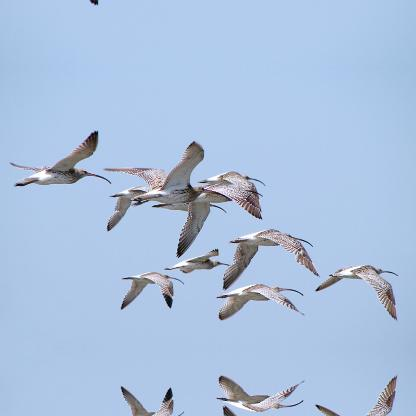Bird: (103, 139, 229, 205), (9, 128, 107, 196), (176, 181, 262, 257), (222, 229, 318, 289), (314, 263, 396, 320), (156, 198, 224, 256), (313, 374, 397, 415), (216, 285, 304, 319), (216, 376, 304, 410), (119, 270, 184, 310), (119, 385, 185, 415), (164, 246, 230, 274), (197, 170, 263, 198), (106, 186, 146, 230)
